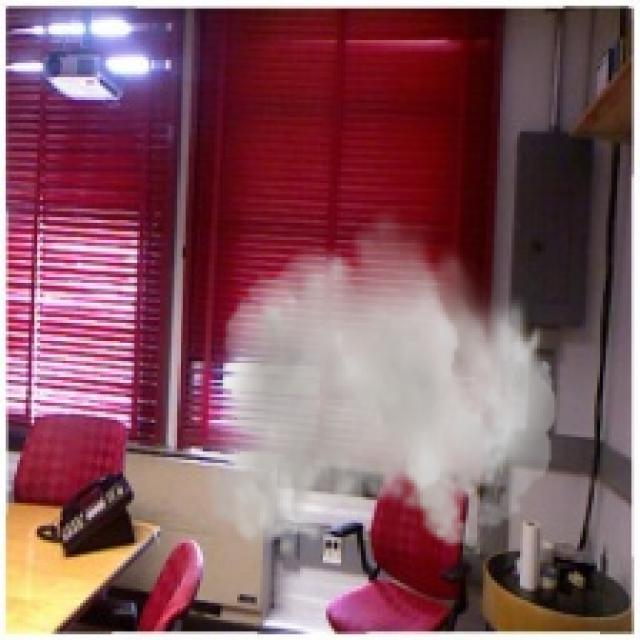Smoke: (205, 203, 558, 560)
